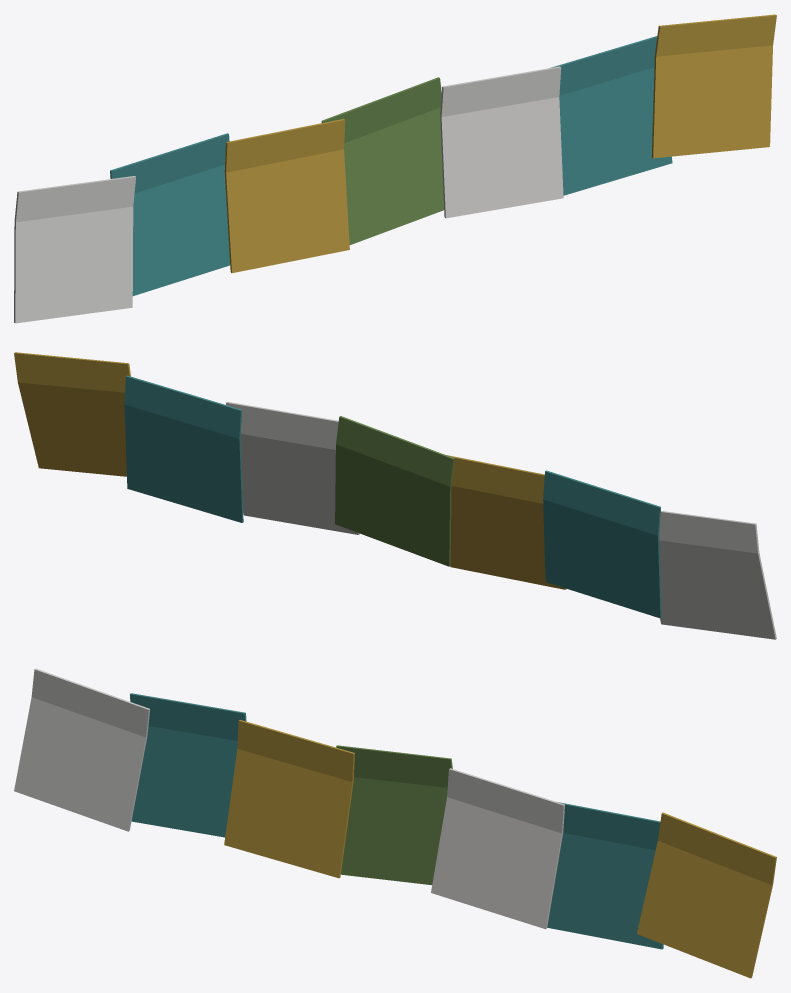
The model's file is sticky-note-patch-009df5.glb.
3 views of the same model, one above another, from view 1: azimuth 30°, elevation 25°; view 2: azimuth 150°, elevation 25°; view 3: azimuth 330°, elevation 25° (orthographic). The views are drawn at different scales.
Parts seen in each view (by area): view 1: notes; view 2: notes; view 3: notes.
Boxes of the visible parts, bbox=[...] form: notes: bbox=[14, 14, 776, 323]; notes: bbox=[14, 352, 776, 639]; notes: bbox=[14, 668, 776, 978].
Bounding box in the file's own units: 0.4966 × 0.0883 × 0.0159.
